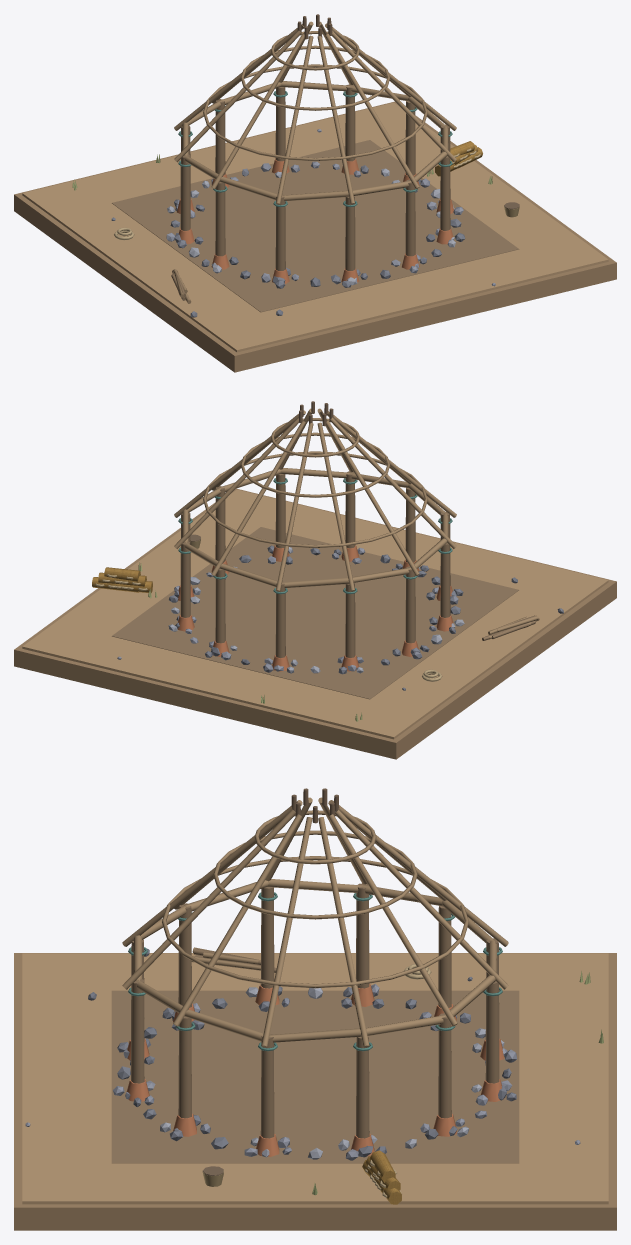
The model's file is num-s-construction.glb.
3 renders of one model, top to bottom at view 1: azimuth 30°, elevation 25°; view 2: azimuth 150°, elevation 25°; view 3: azimuth 270°, elevation 25°, orthographic. The views are drawn at different scales.
Parts seen in each view (by area): view 1: era1; view 2: era1; view 3: era1.
Boxes of the visible parts, <box> form: era1: <box>14,14,616,372</box>; era1: <box>14,401,616,759</box>; era1: <box>14,788,616,1230</box>.
Size of the model in its own units: 21.78 by 12.07 by 21.6.
18 materials, 1 textured.
